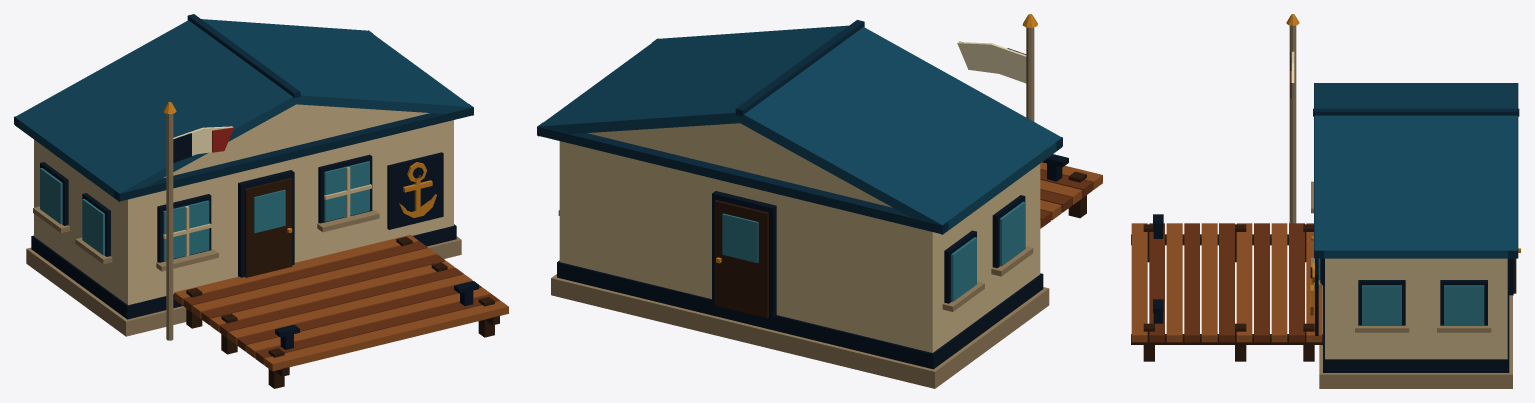
The model's file is marina-captaincy.glb.
3 views of the same model, side by side, from view 1: azimuth 30°, elevation 25°; view 2: azimuth 150°, elevation 25°; view 3: azimuth 270°, elevation 25° (orthographic). The views are drawn at different scales.
Visible parts, largest first — view 1: MarinaCaptaincy; view 2: MarinaCaptaincy; view 3: MarinaCaptaincy.
Boxes of the visible parts, x1,y1,x2,y2 form: MarinaCaptaincy: [14, 14, 508, 388]; MarinaCaptaincy: [537, 14, 1102, 388]; MarinaCaptaincy: [1131, 14, 1520, 388].
Bounding box in the file's own units: 8.7 × 5.55 × 8.54.
1 material, 1 textured.
